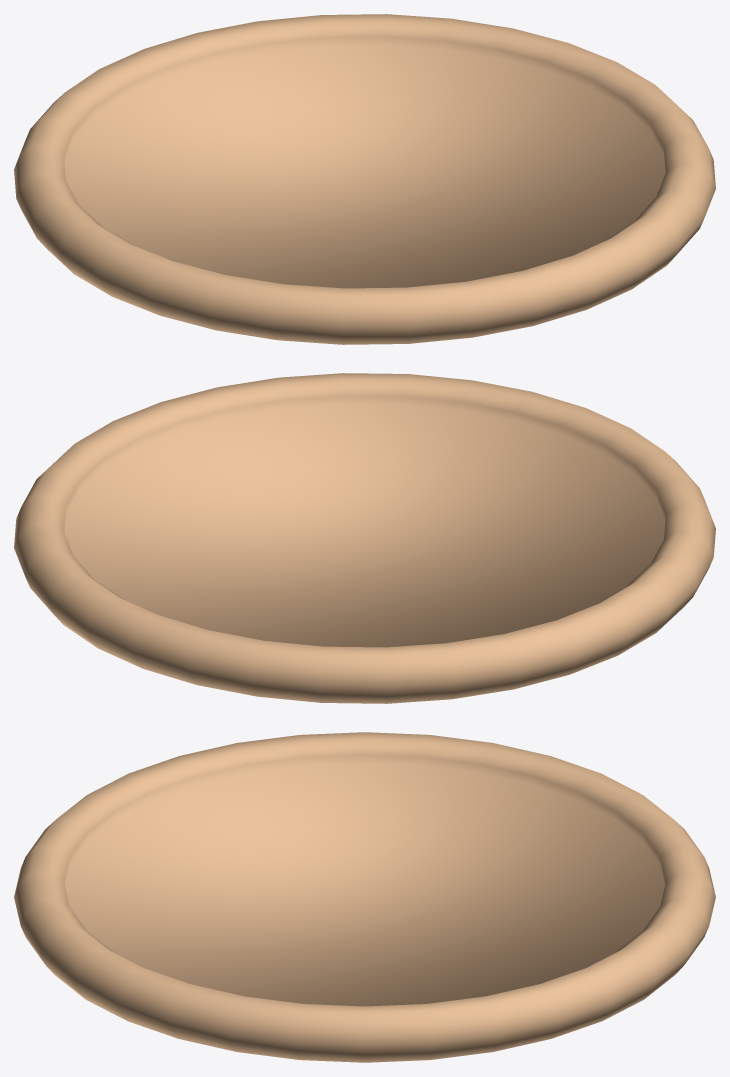
File: dough.fbx
3 views of the same model, one above another, from view 1: azimuth 30°, elevation 25°; view 2: azimuth 150°, elevation 25°; view 3: azimuth 270°, elevation 25° (orthographic).
Visible parts, largest first — view 1: dough; view 2: dough; view 3: dough.
Part boxes in pixels (x1,y1,x2,y2): dough: (14,14,715,344); dough: (14,373,715,703); dough: (14,732,715,1062).
Bounding box in the file's own units: 2661 × 198 × 2661.
